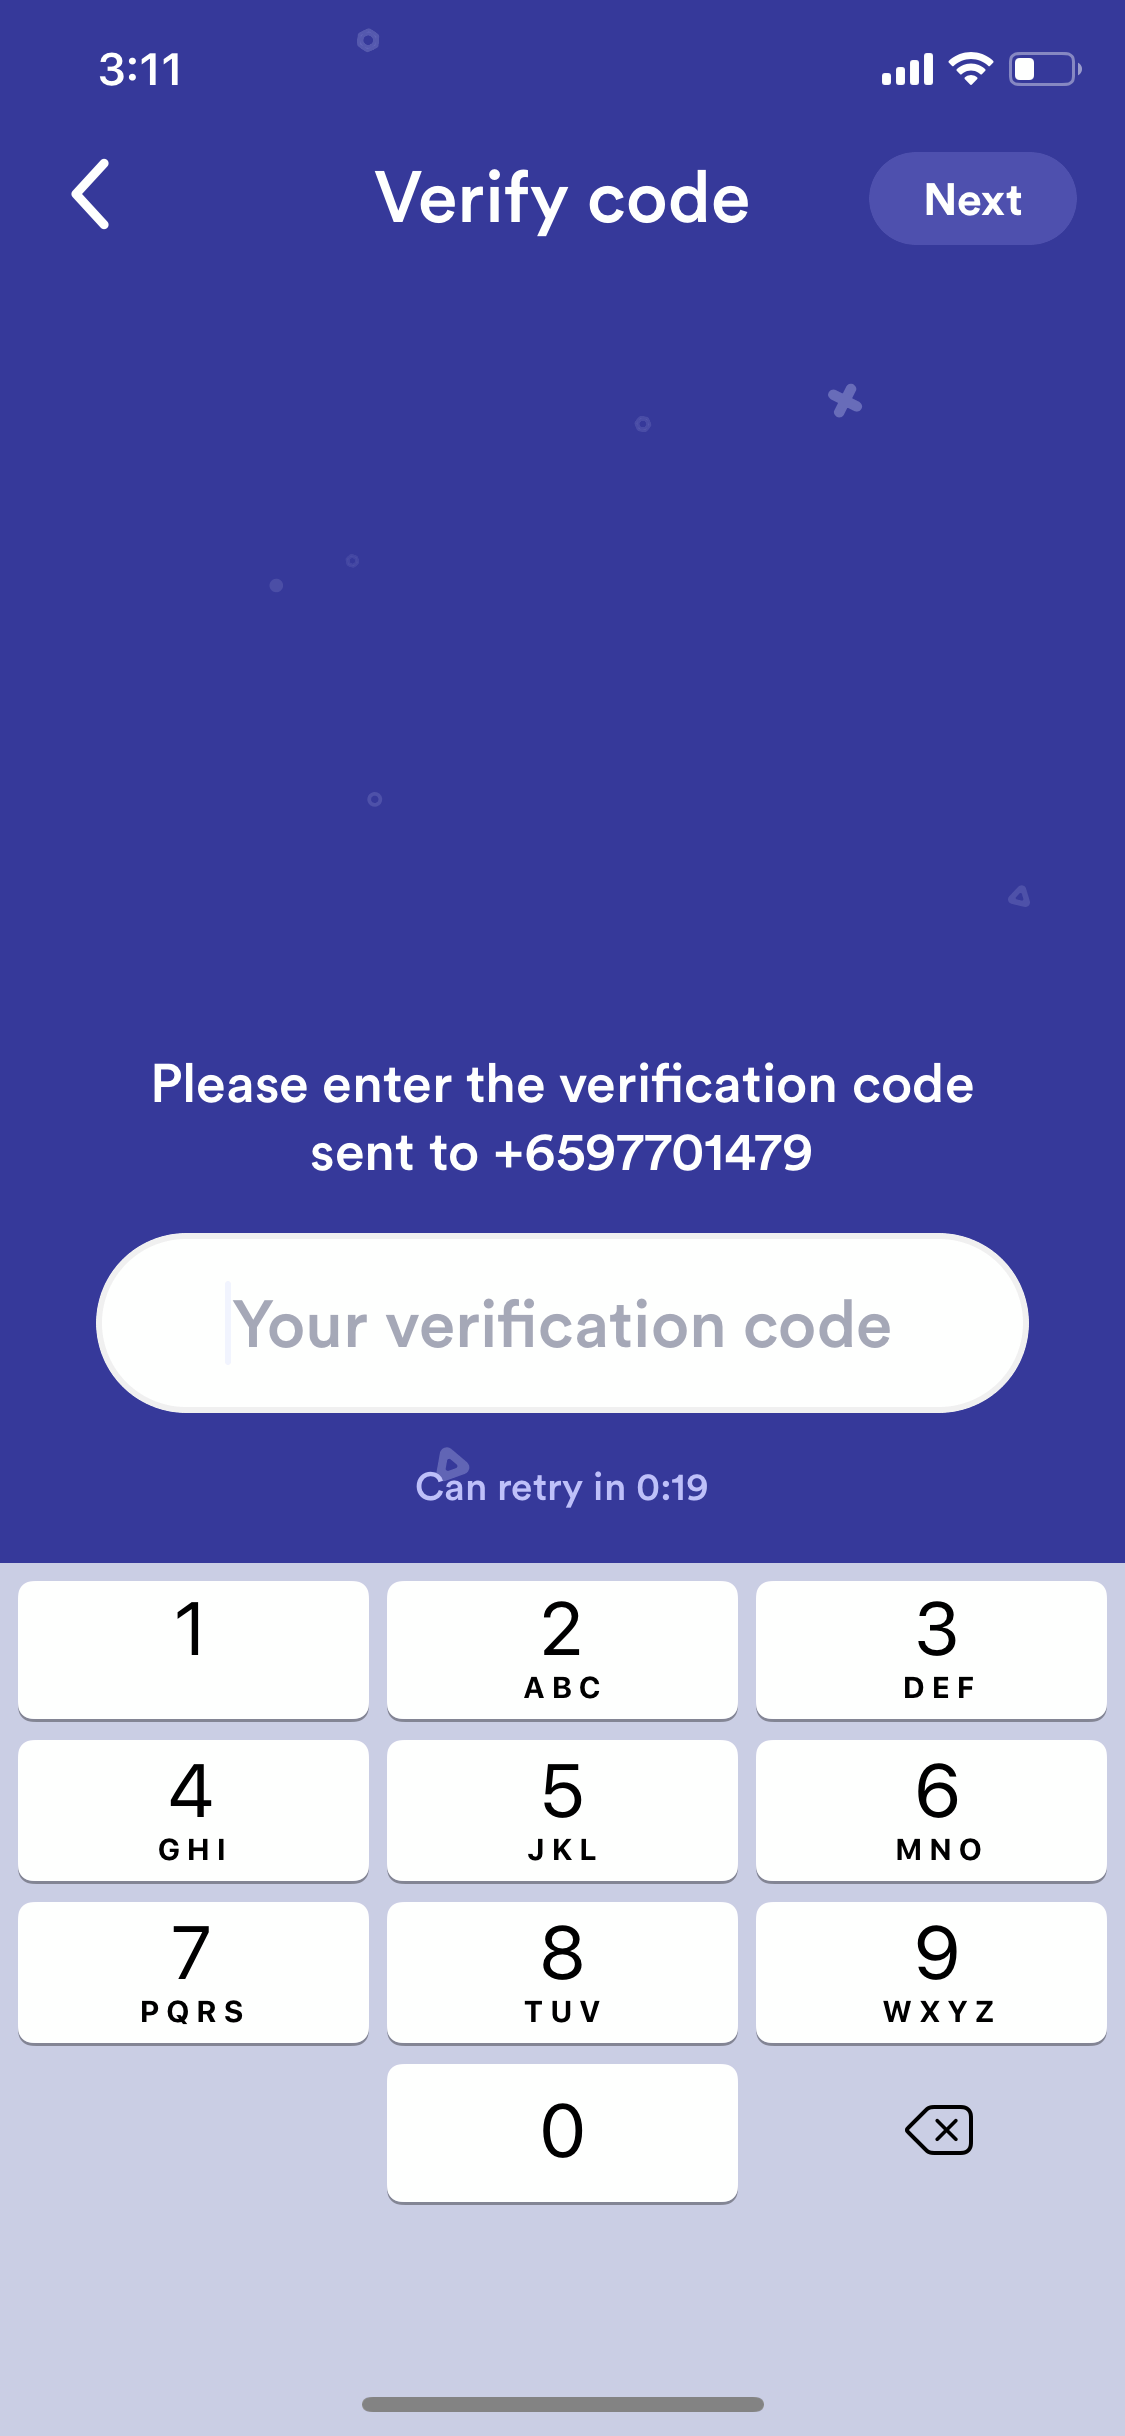Buttons: (852, 138, 1099, 245), (28, 129, 166, 249)
Text Fields: (82, 1210, 1044, 1418)
